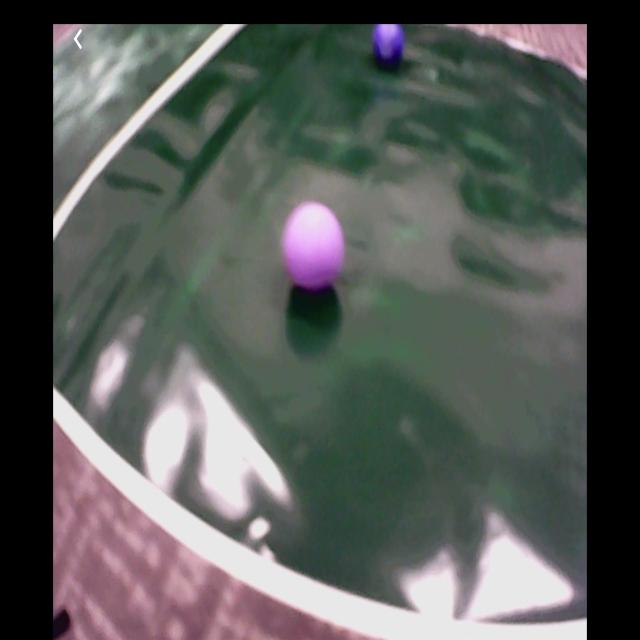ball: (285, 204, 345, 287), (371, 26, 407, 74)
